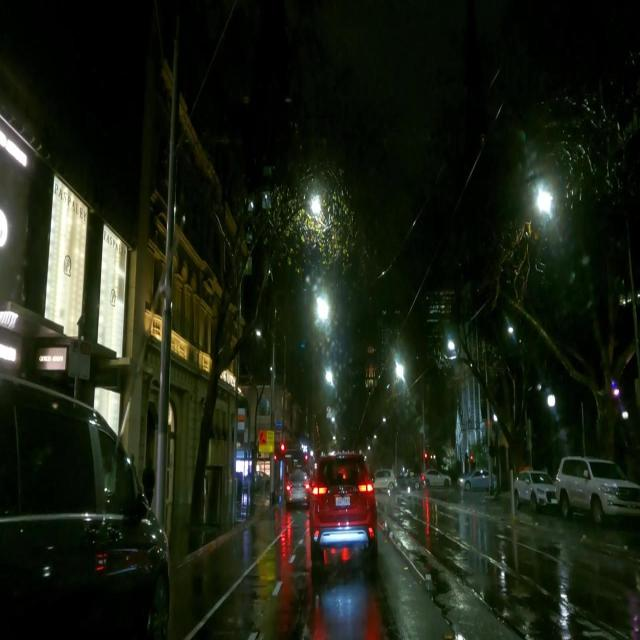Car: (312, 451, 376, 556), (553, 455, 639, 529), (511, 467, 557, 510)
